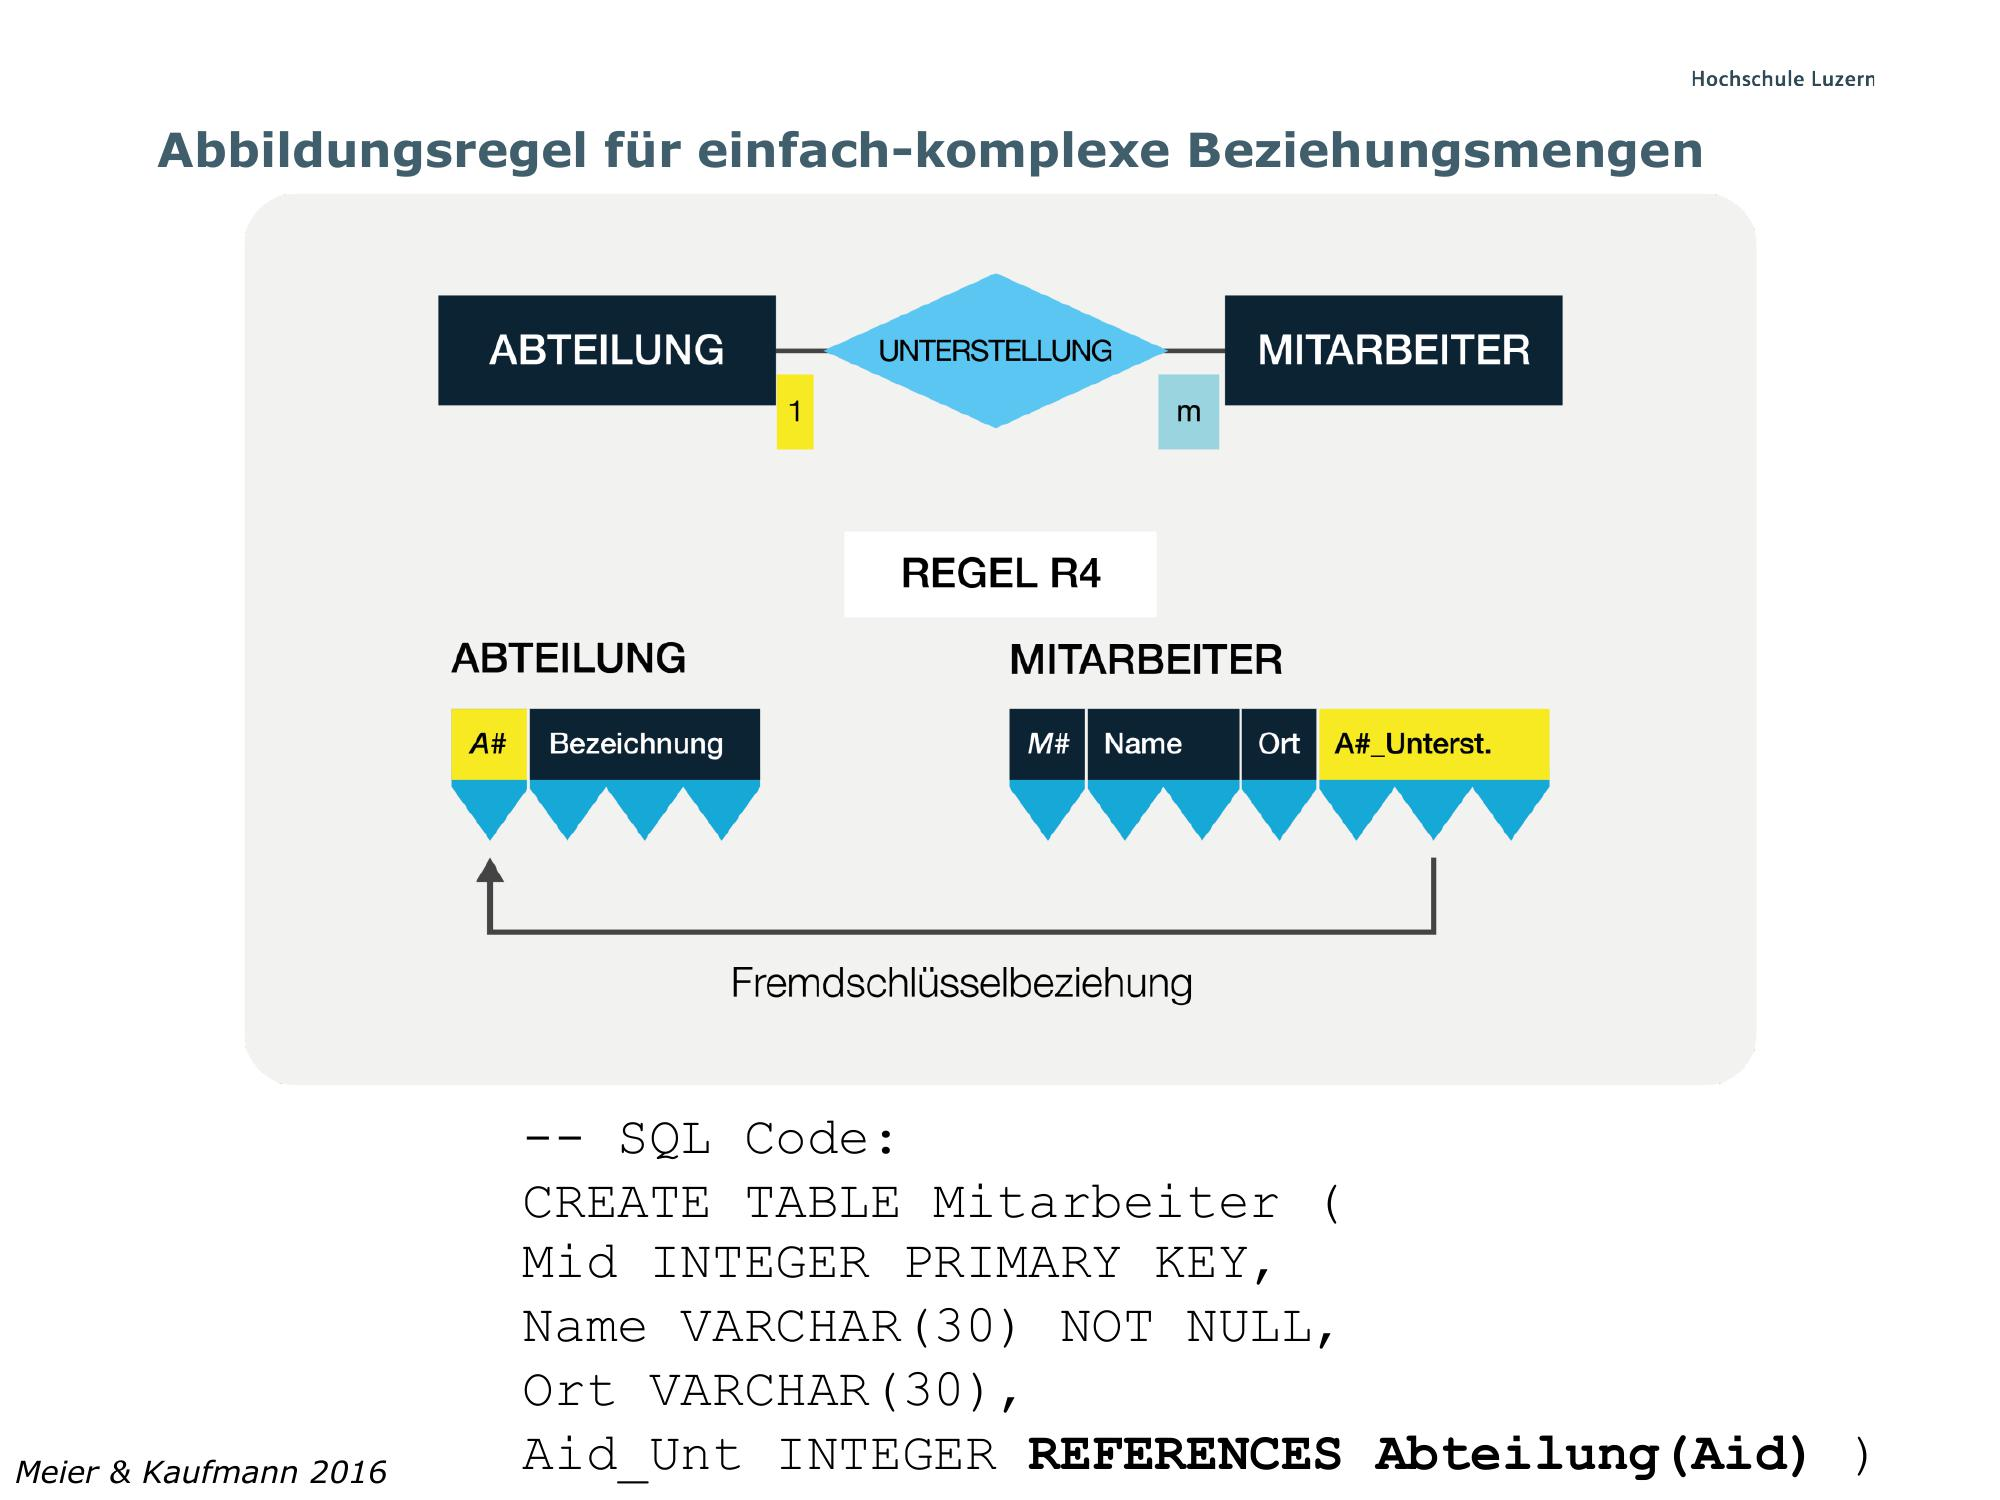Title: (154, 110, 1710, 191)
